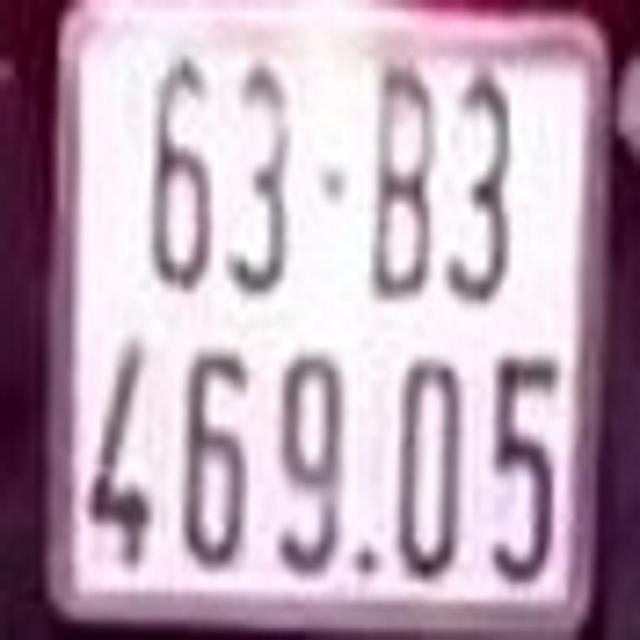0: (393, 356, 467, 575)
3: (454, 66, 510, 309), (234, 56, 289, 290)
4: (85, 338, 150, 568)
5: (487, 352, 554, 579)
6: (148, 50, 211, 297), (184, 344, 247, 565)
9: (285, 353, 340, 578)
B: (366, 58, 432, 301)
